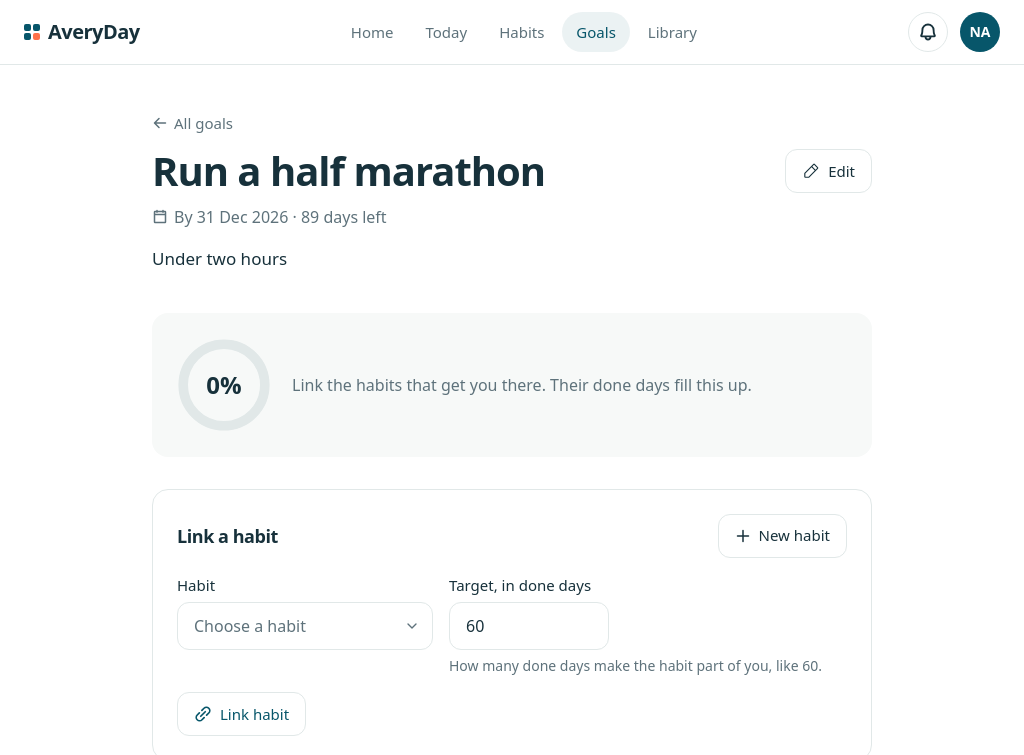
Test: goal detail › explains a link the server refuses
This screenshot has width=1024, height=755.
Click the dropdown labelled "habit" at (305, 626), box x1=177 y1=602 x2=433 y2=650
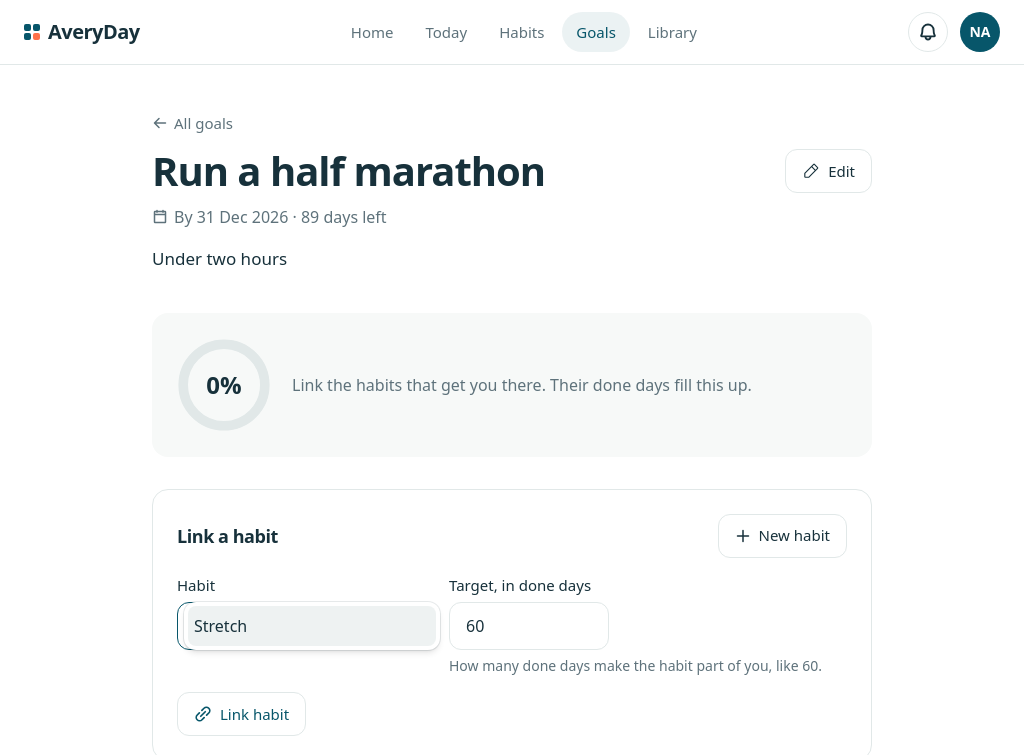
Click the option "Stretch" at (312, 626), box x1=188 y1=606 x2=436 y2=646
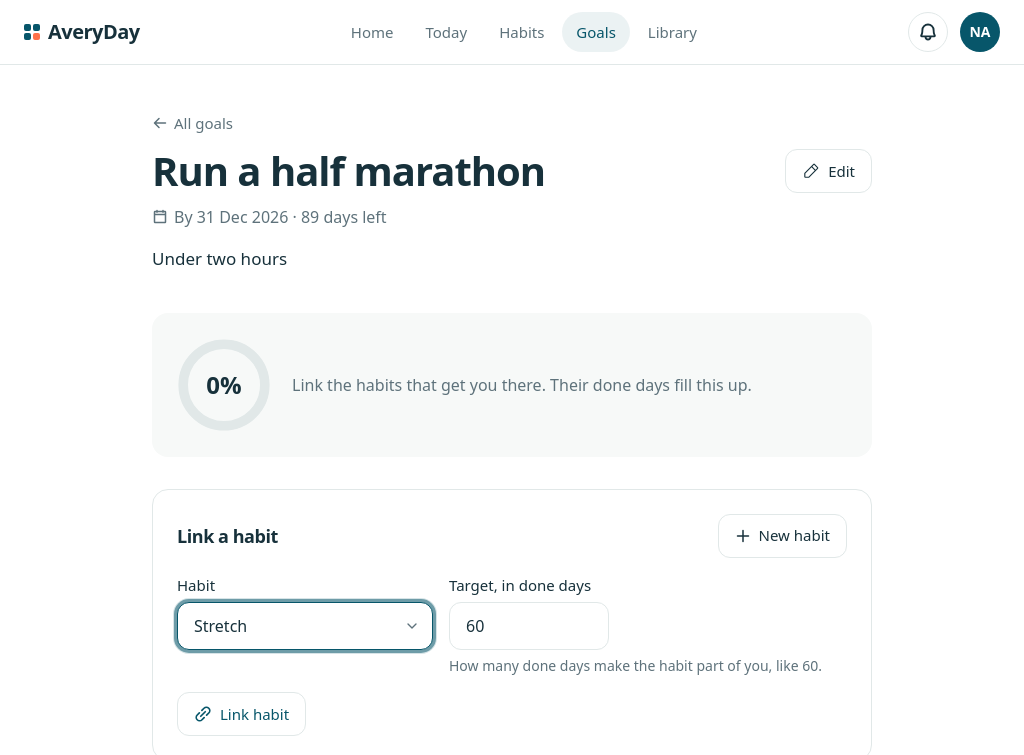
Click the button "Link habit" at (242, 714), box x1=177 y1=692 x2=306 y2=736
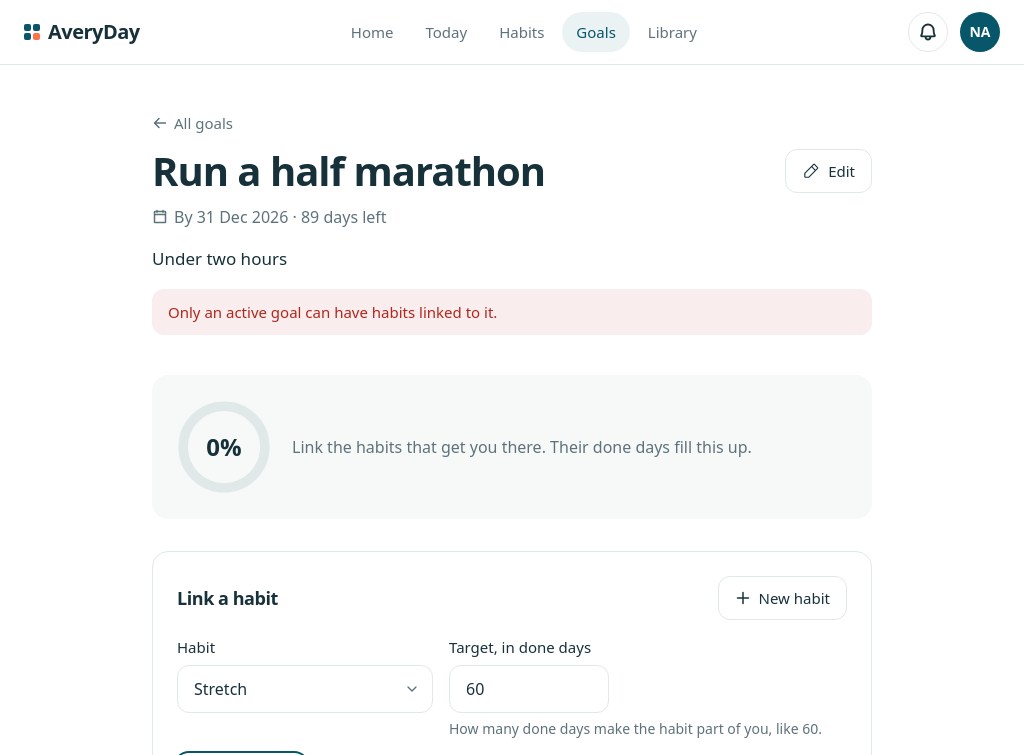
Expected: the message reads "Only an active goal can have habits linked to it.", x1=168 y1=302 x2=497 y2=322
